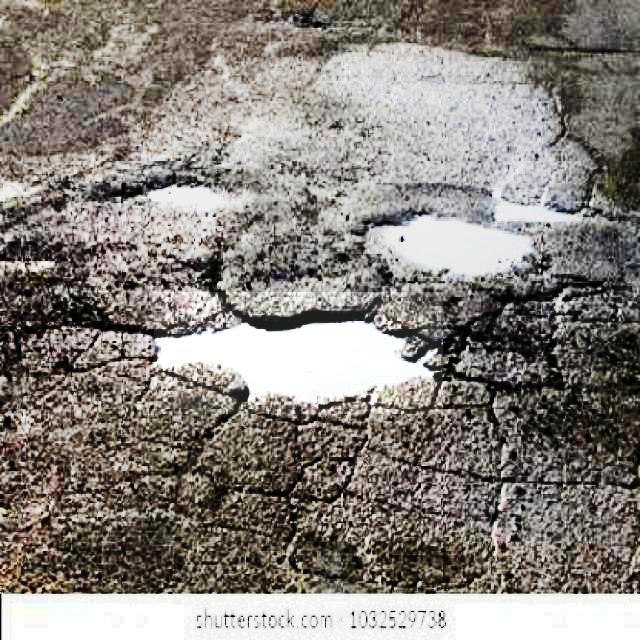pothole: (154, 292, 443, 414)
